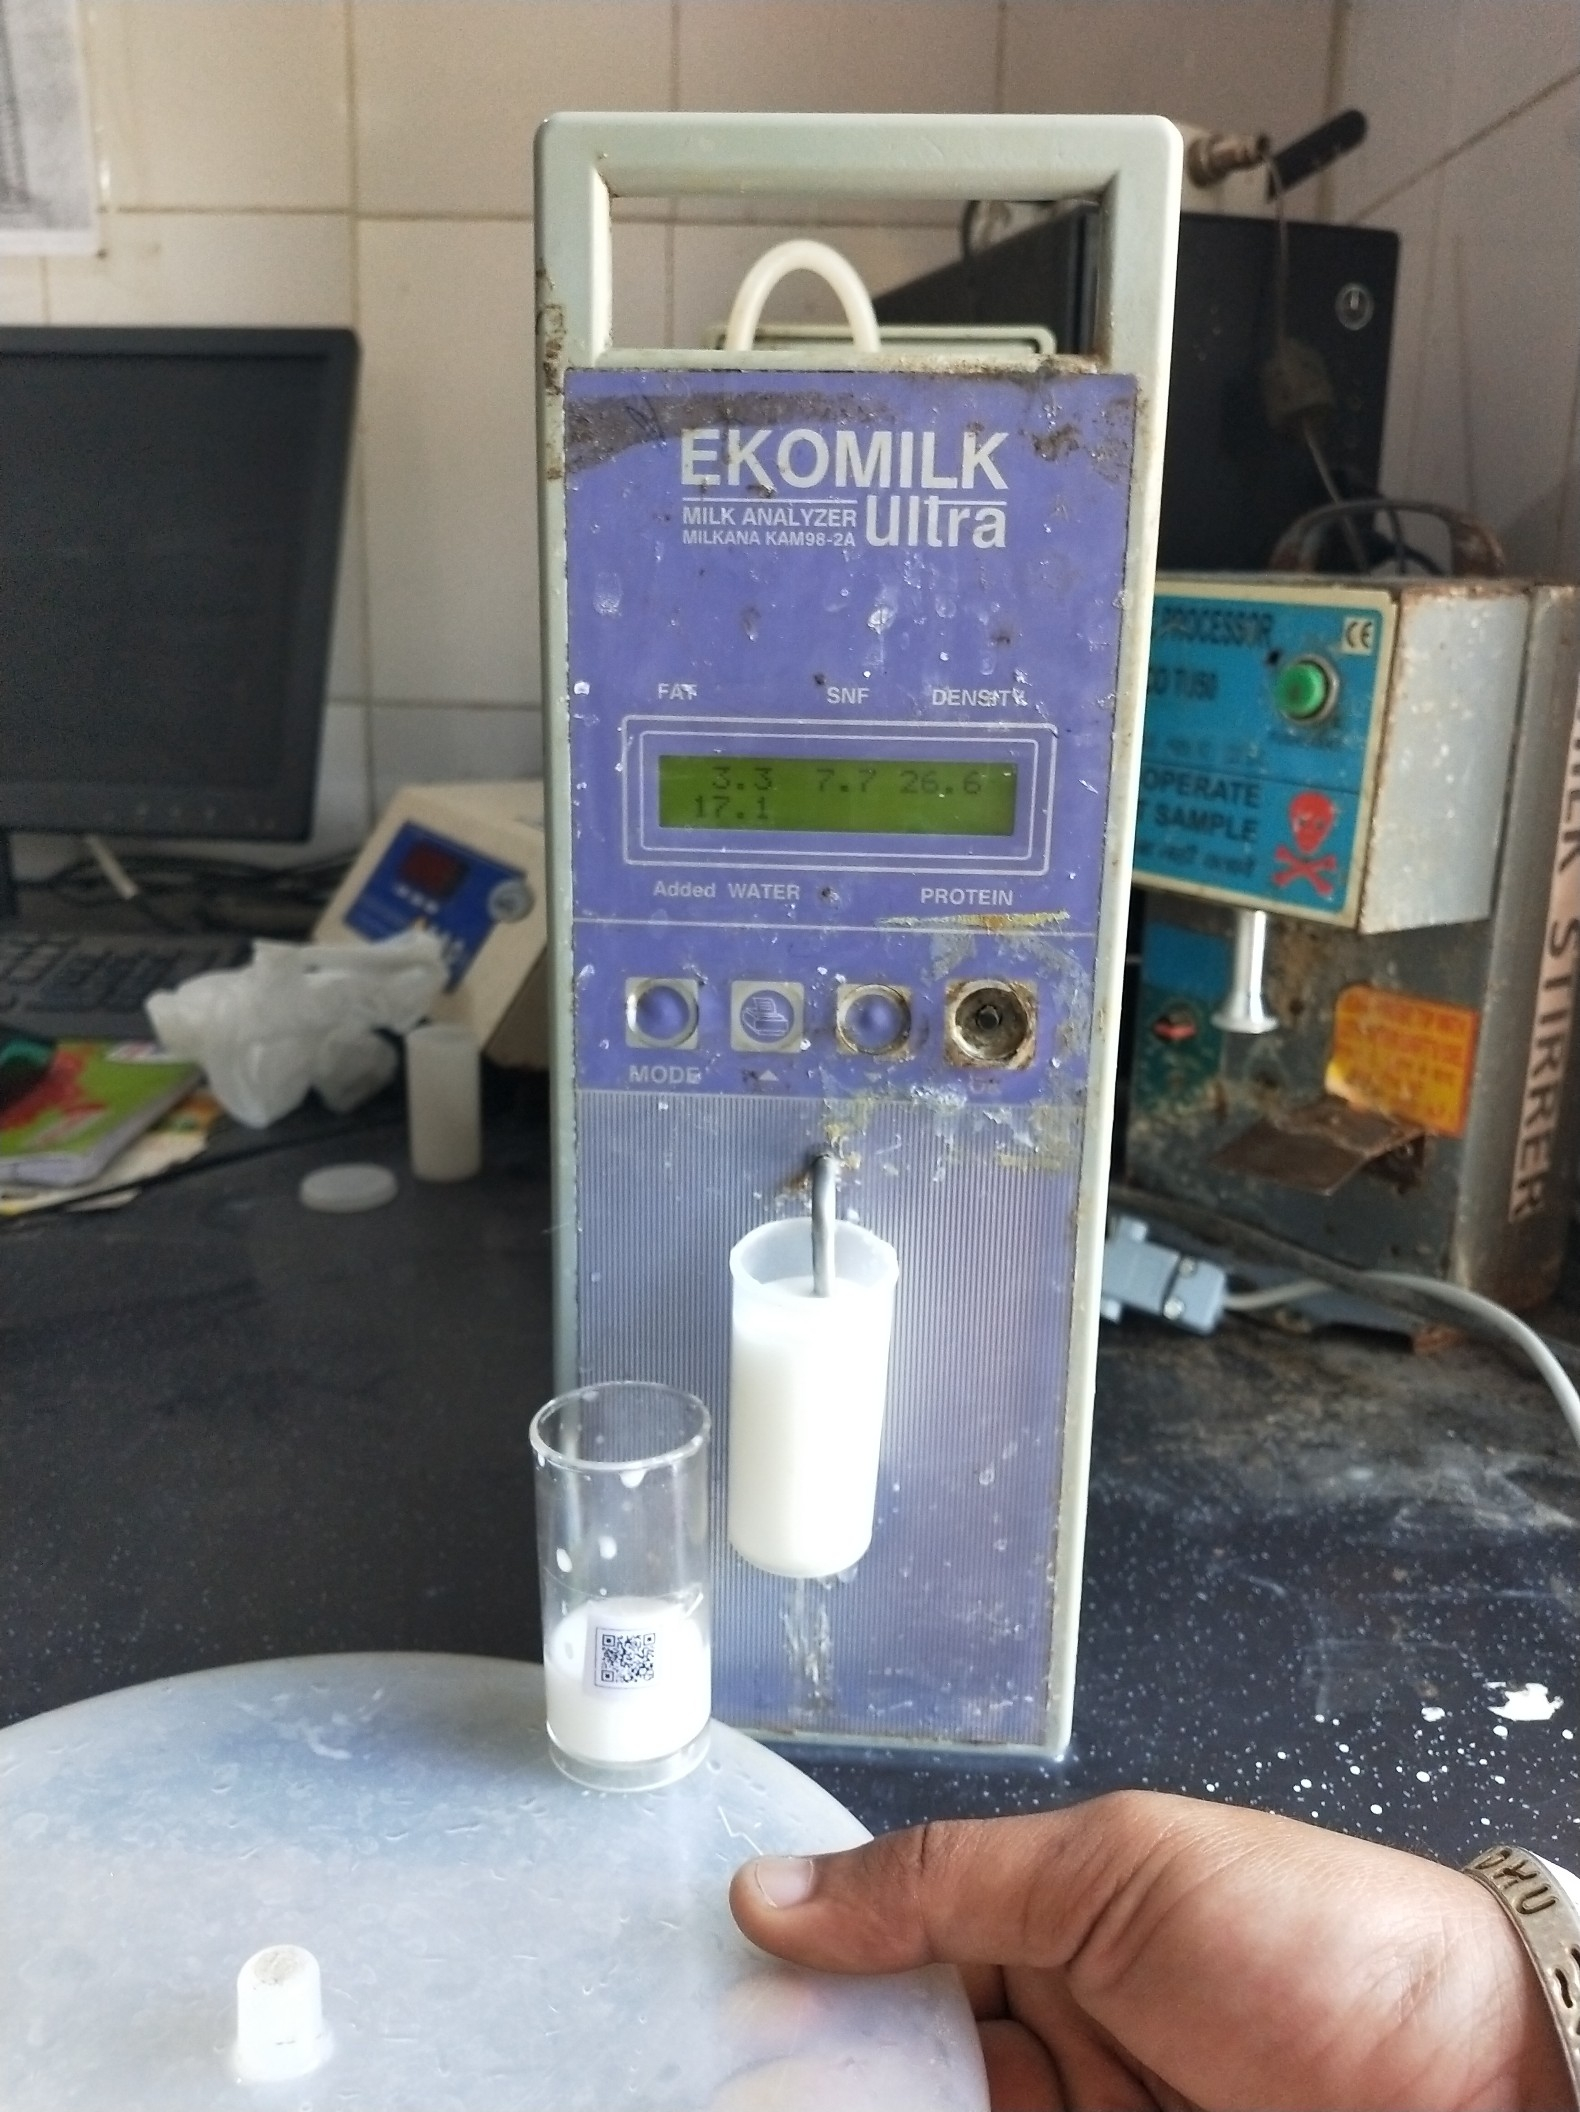lcd: (646, 747, 1036, 859)
qr: (597, 1629, 662, 1687)
